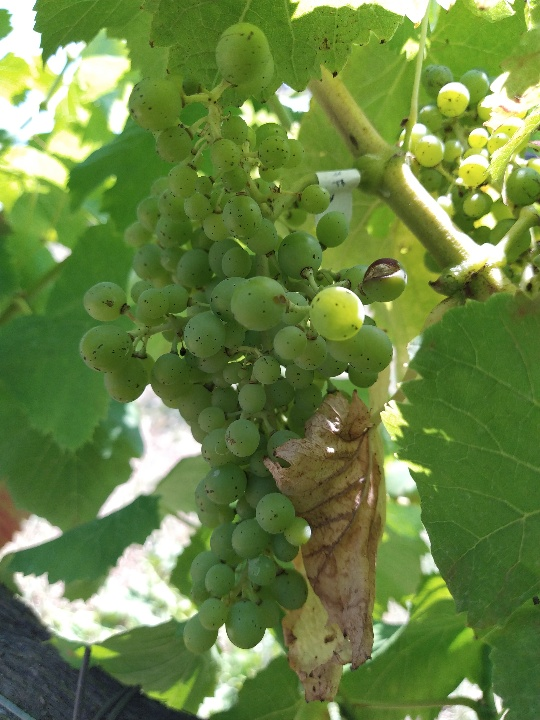grape: (76, 20, 412, 661)
